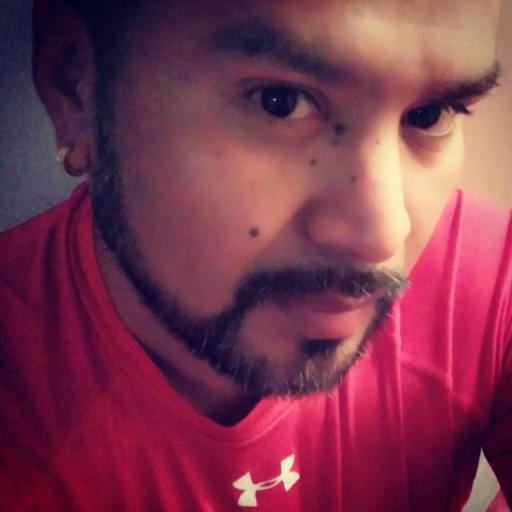Under Armour: (230, 451, 301, 510)
